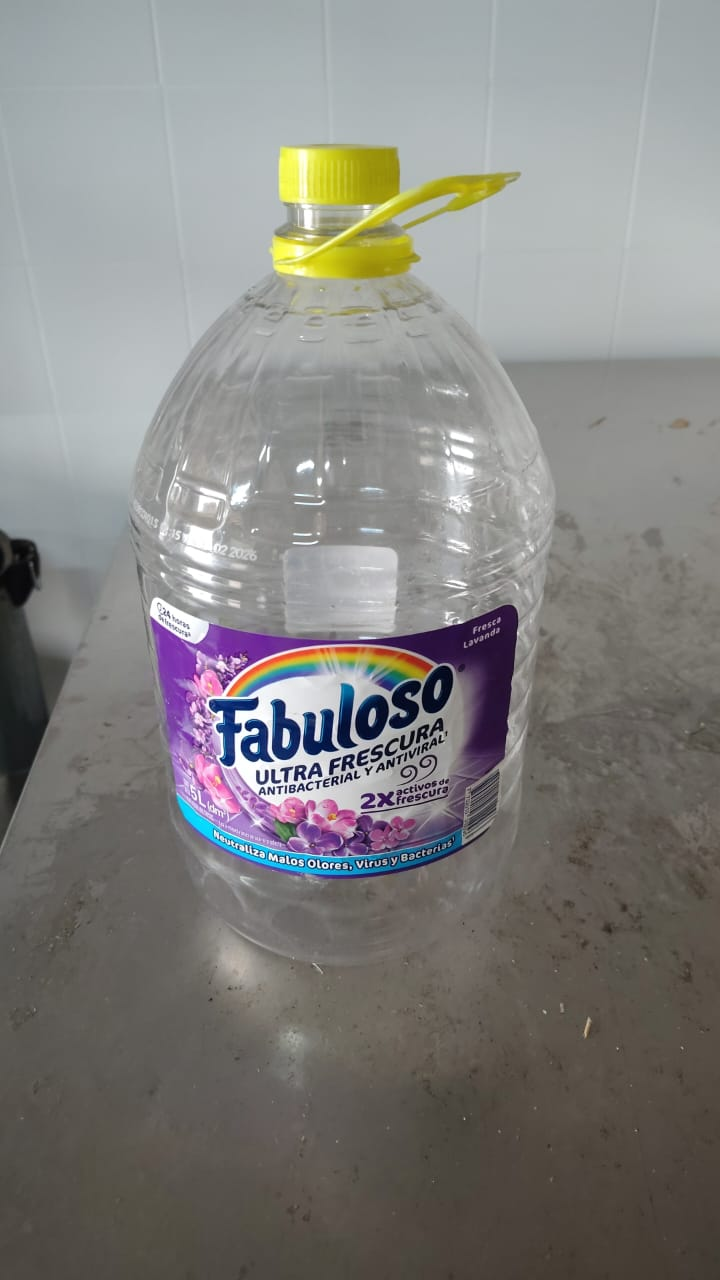Plastico: (129, 145, 557, 966)
